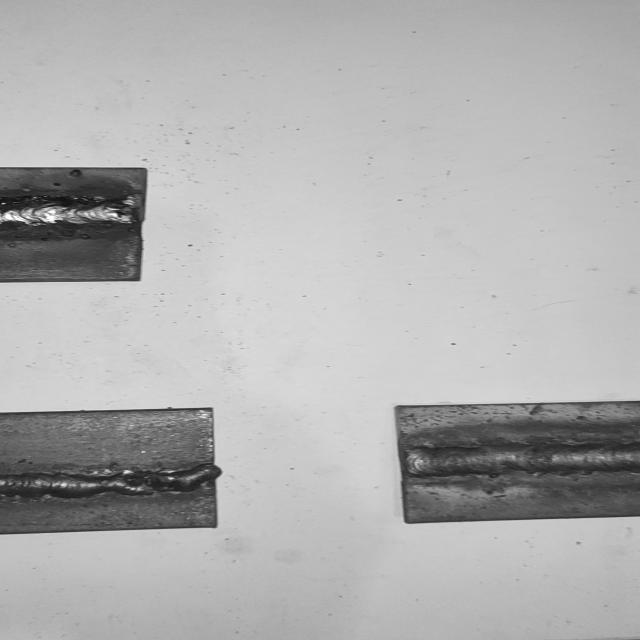Defect: (113, 454, 211, 504)
Welding Line: (403, 440, 640, 478), (0, 466, 214, 504), (0, 203, 140, 229)
Workpiece: (390, 398, 640, 528), (0, 402, 230, 538), (0, 162, 155, 284)
